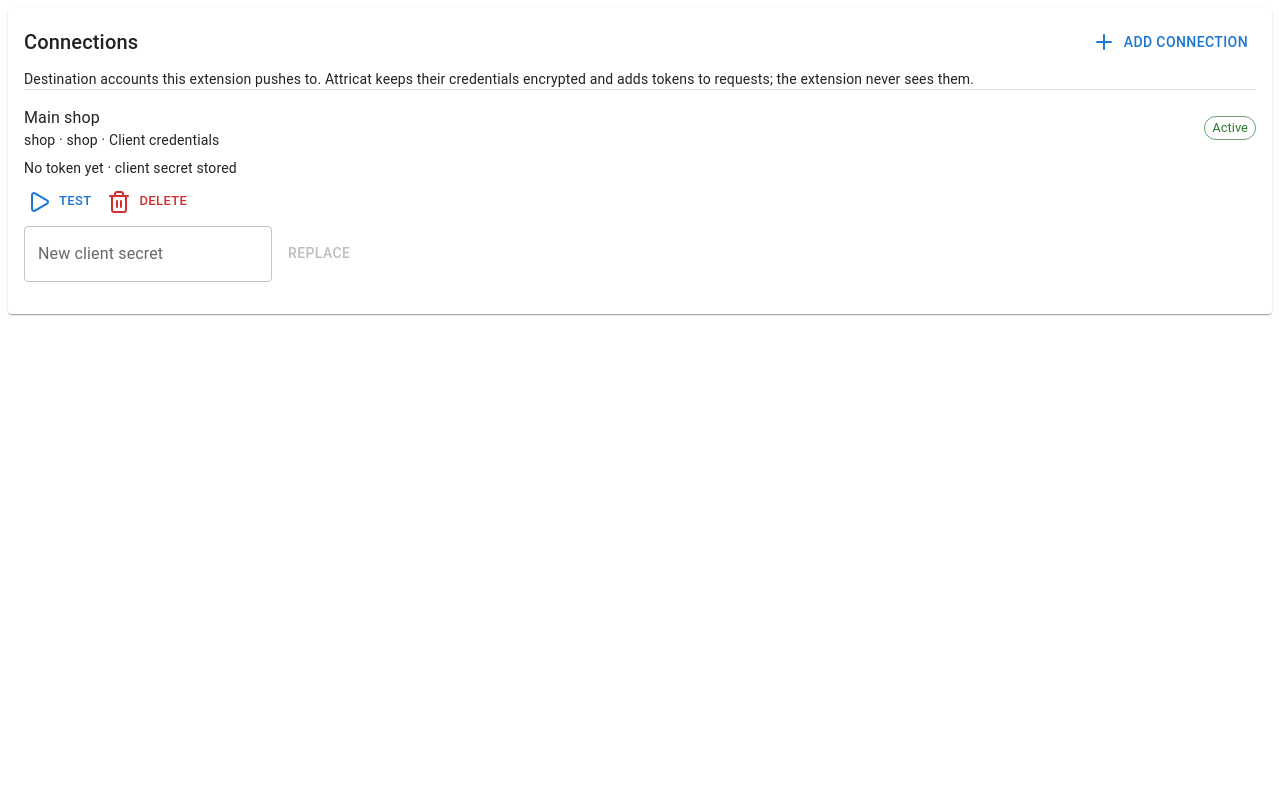
it: ExtensionConnectionsSection › clears an earlier failure when another action starts
Click the button "Test" at (60, 202), box 24,186 -> 96,218
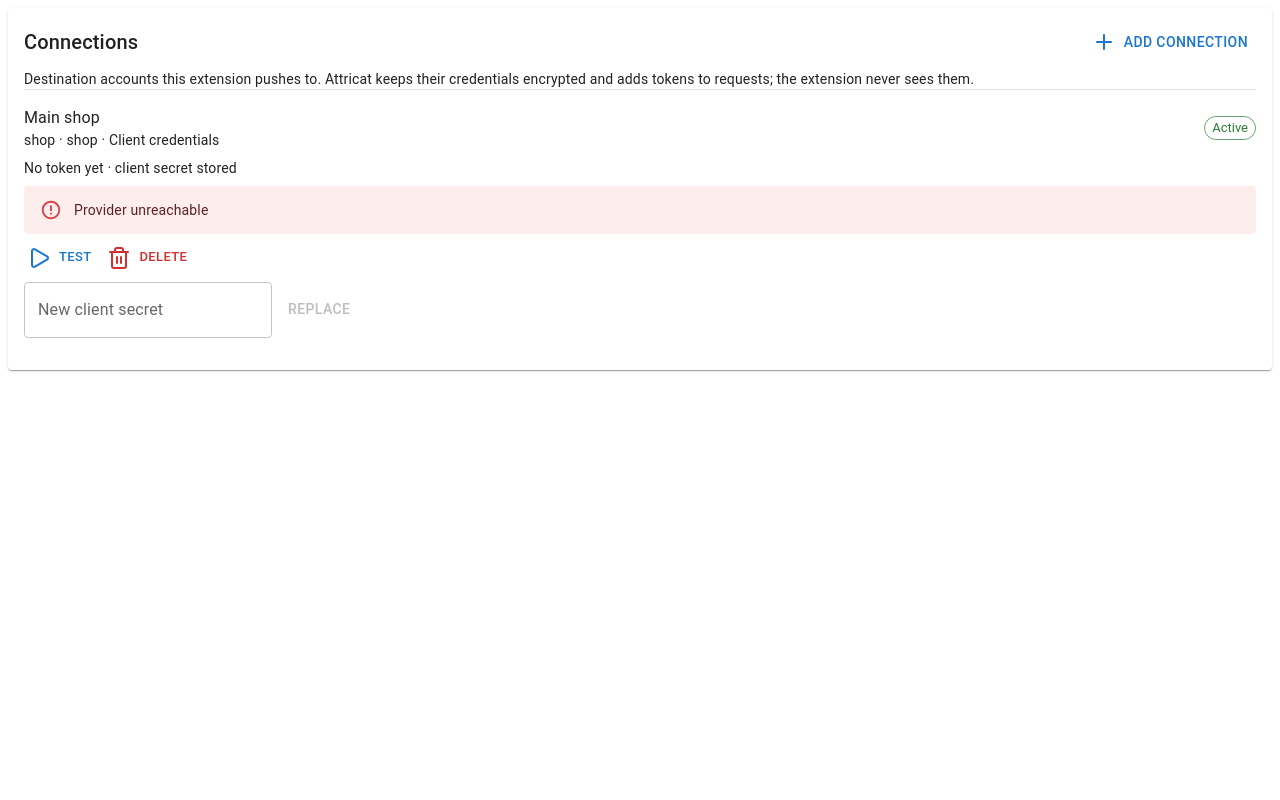
Check: the message "Provider unreachable" is shown, box 24,186 -> 1256,234
Click the button "Delete" at (148, 258), box 104,242 -> 192,274
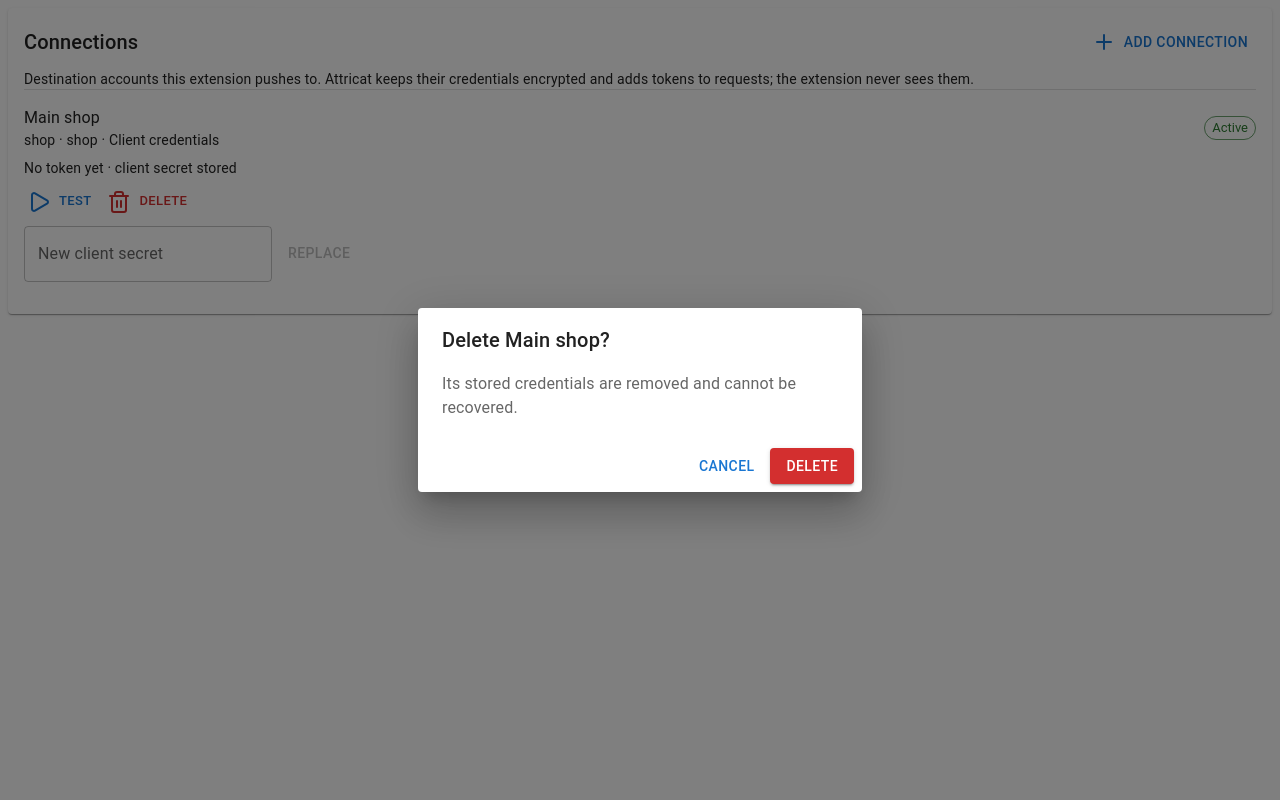
Check: the message "Provider unreachable" is gone
